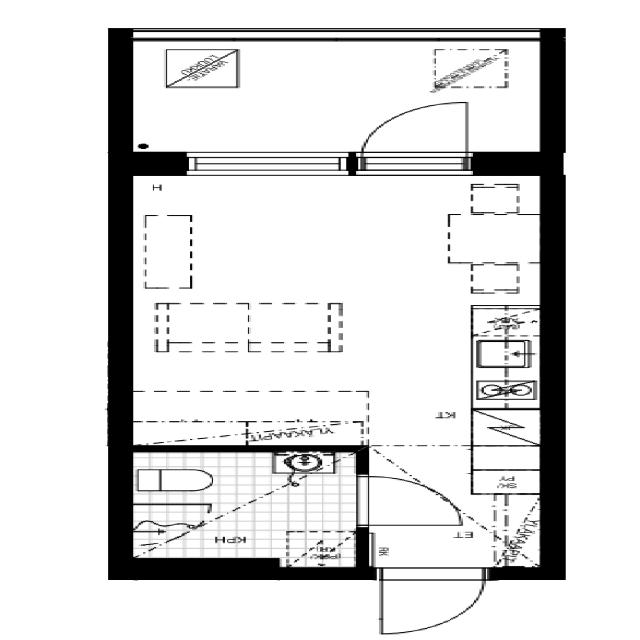door: (378, 570, 490, 635), (358, 472, 469, 531), (362, 95, 469, 151)
window: (182, 152, 350, 176), (351, 149, 478, 176)
zone: (119, 168, 555, 448), (134, 30, 562, 162), (114, 444, 363, 570)
